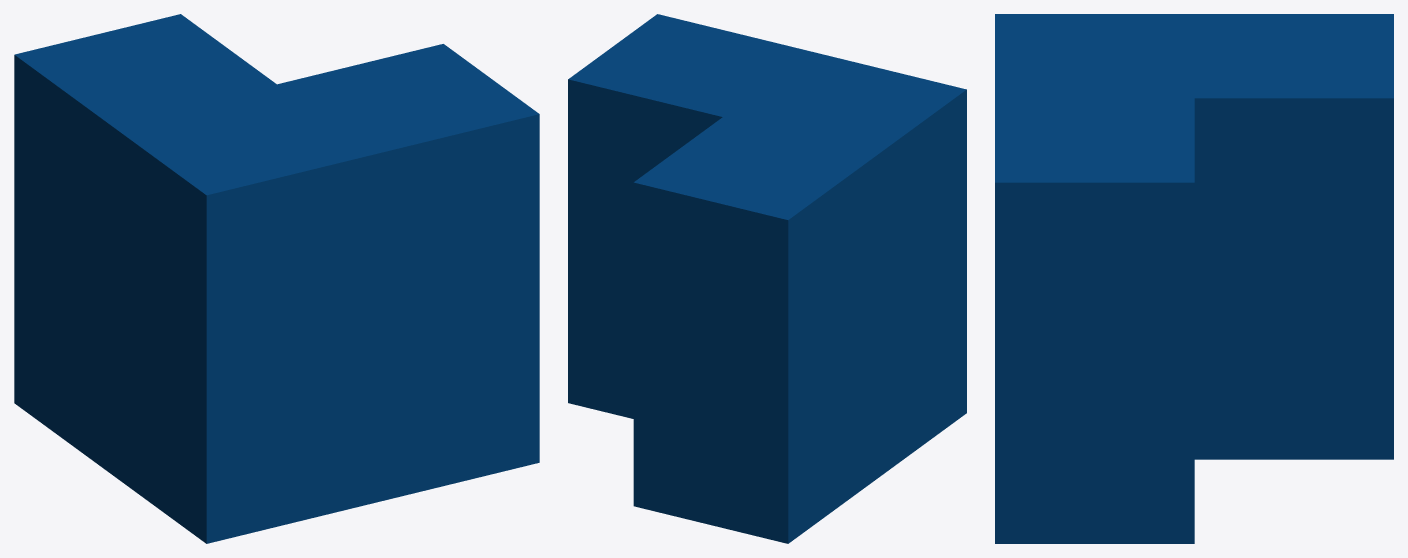
File: corner_2x2.glb
3 renders of one model, left to right at view 1: azimuth 30°, elevation 25°; view 2: azimuth 150°, elevation 25°; view 3: azimuth 270°, elevation 25°, orthographic. The views are drawn at different scales.
Visible parts, largest first — view 1: Corner_2x2; view 2: Corner_2x2; view 3: Corner_2x2.
Boxes of the visible parts, x1,y1,x2,y2 form: Corner_2x2: (14, 14, 539, 543); Corner_2x2: (568, 14, 966, 543); Corner_2x2: (995, 14, 1393, 543).
Size of the model in its own units: 2 by 2 by 2.
